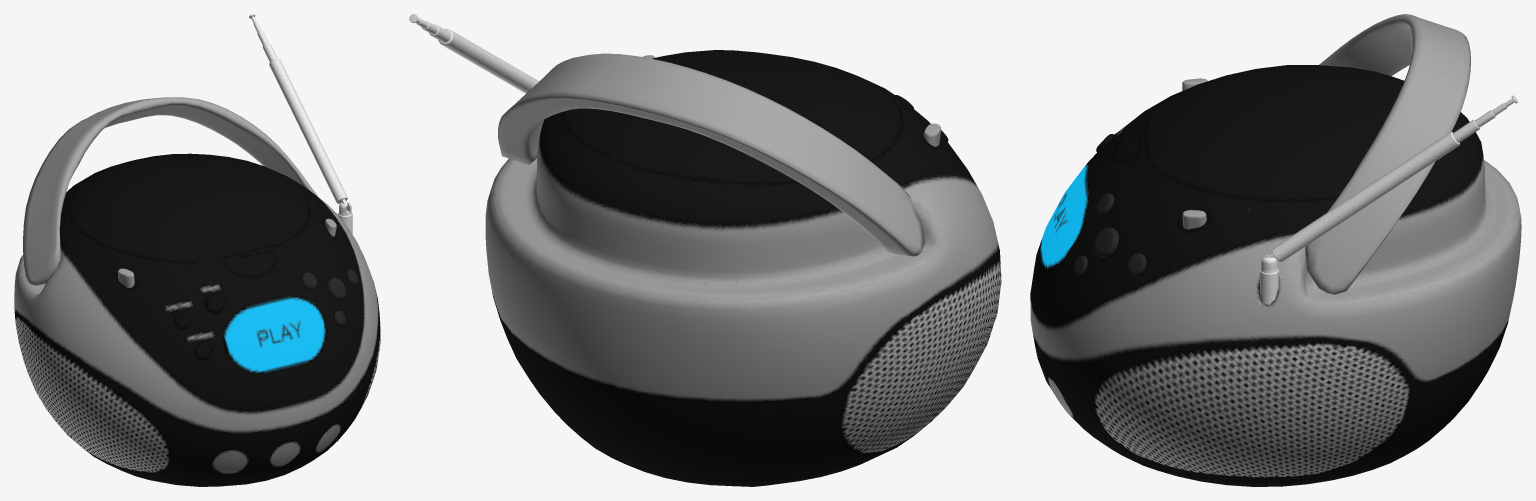
Rendered from BoomBox.glb.
3 renders of one model, left to right at view 1: azimuth 30°, elevation 25°; view 2: azimuth 150°, elevation 25°; view 3: azimuth 270°, elevation 25°, orthographic. The views are drawn at different scales.
Visible parts, largest first — view 1: BoomBox; view 2: BoomBox; view 3: BoomBox.
Part boxes in pixels (x1,y1,x2,y2): BoomBox: (14,14,380,486); BoomBox: (409,14,1001,486); BoomBox: (1030,14,1521,486).
Size of the model in its own units: 0.0198 by 0.0195 by 0.0202.
1 material, 1 textured.
